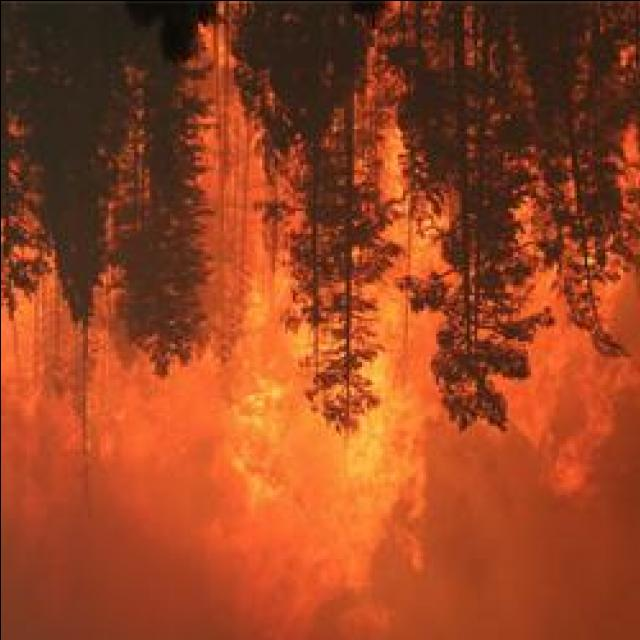fire: (237, 313, 279, 485), (336, 434, 405, 498), (0, 335, 16, 423), (386, 374, 406, 418), (558, 442, 580, 482)
smoke: (49, 493, 172, 577), (436, 510, 614, 568), (266, 516, 378, 594)
